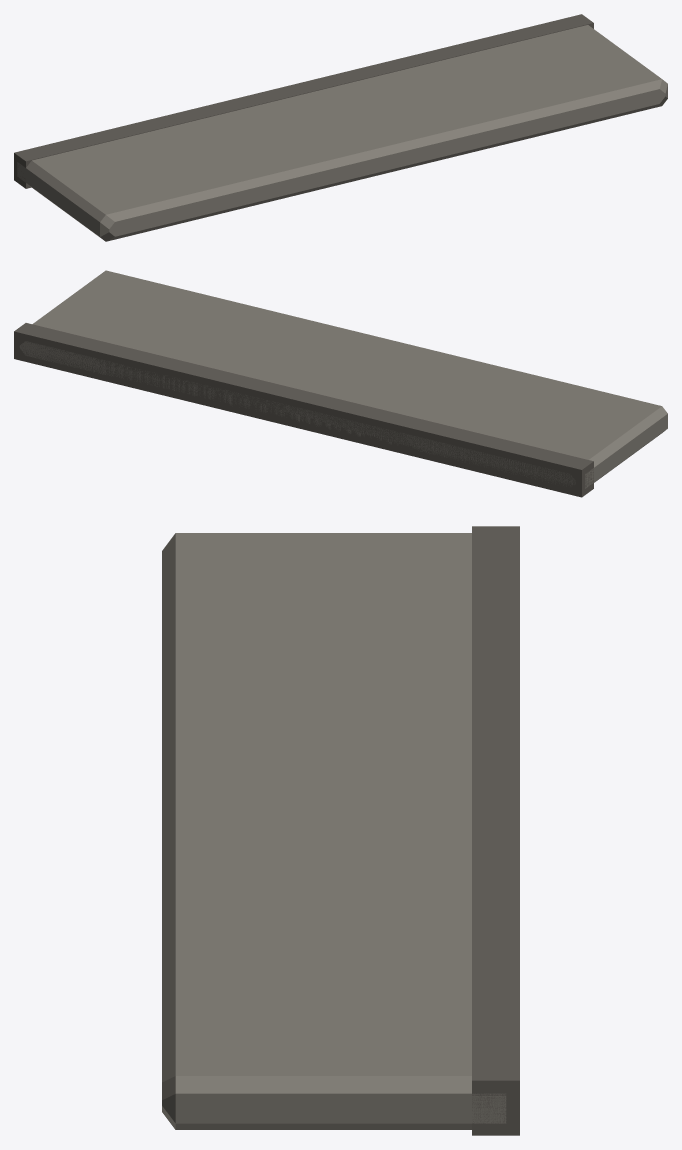
The model's file is SM_Bld_Step_01.glb.
3 renders of one model, top to bottom at view 1: azimuth 30°, elevation 25°; view 2: azimuth 150°, elevation 25°; view 3: azimuth 270°, elevation 25°, orthographic. The views are drawn at different scales.
Parts seen in each view (by area): view 1: SM_Bld_Step_01; view 2: SM_Bld_Step_01; view 3: SM_Bld_Step_01.
Part boxes in pixels (left/top/right/bottom): SM_Bld_Step_01: left=14, top=14, right=667, bottom=241; SM_Bld_Step_01: left=14, top=270, right=667, bottom=497; SM_Bld_Step_01: left=162, top=526, right=519, bottom=1135.
Bounding box in the file's own units: 2.2 × 0.102 × 0.6.
1 material, 1 textured.
